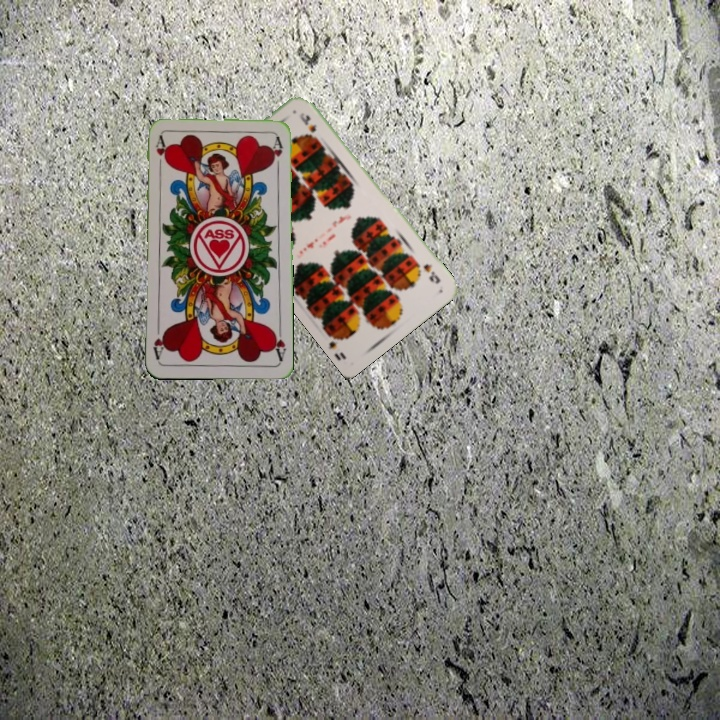HA: (269, 322, 289, 362), (151, 134, 167, 174)
S9: (419, 260, 443, 287)
